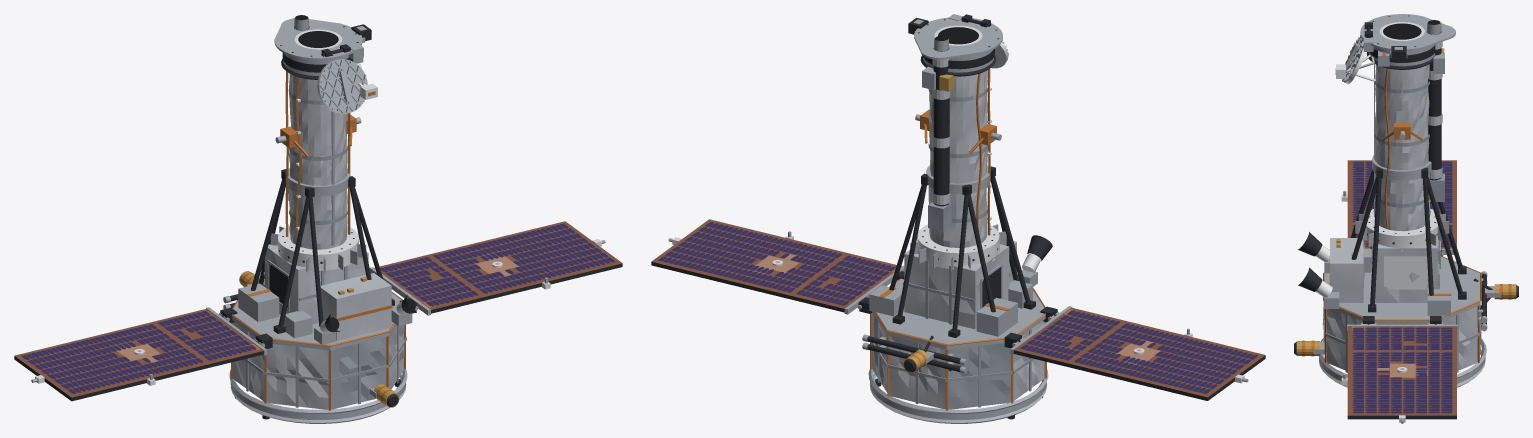
The model's file is iris.glb.
3 renders of one model, left to right at view 1: azimuth 30°, elevation 25°; view 2: azimuth 150°, elevation 25°; view 3: azimuth 270°, elevation 25°, orthographic. The views are drawn at different scales.
Visible parts, largest first — view 1: body, foil, solar-panel; view 2: body, foil, solar-panel; view 3: body, foil, solar-panel.
Boxes of the visible parts, x1=… form: body: x1=14, y1=15, x2=622, y2=423; foil: x1=231, y1=71, x2=435, y2=410; solar-panel: x1=21, y1=223, x2=614, y2=393; body: x1=651, y1=14, x2=1265, y2=423; foil: x1=870, y1=45, x2=1076, y2=410; solar-panel: x1=658, y1=222, x2=1257, y2=393; body: x1=1294, y1=14, x2=1518, y2=423; foil: x1=1296, y1=42, x2=1516, y2=372; solar-panel: x1=1352, y1=161, x2=1452, y2=413.
Bounding box in the file's own units: 3.74 × 2.26 × 1.34.
